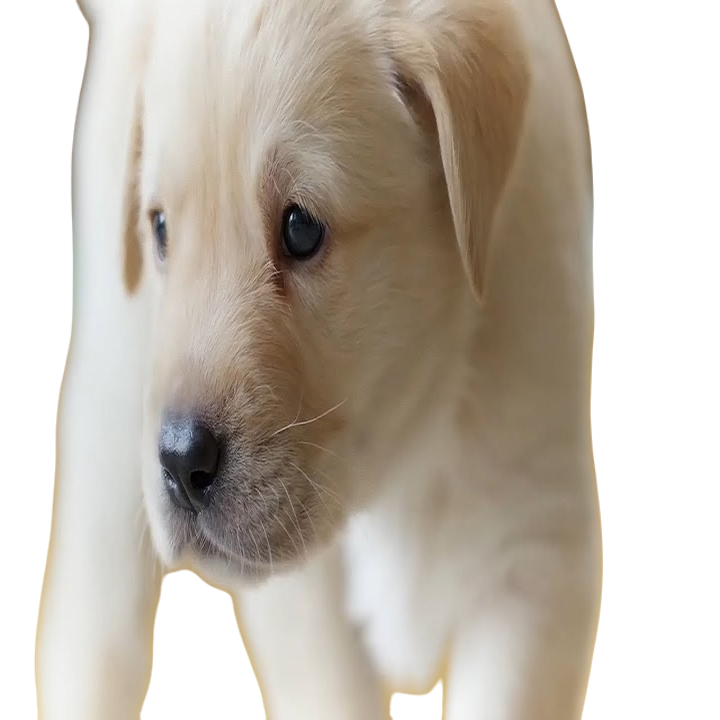Dog: (27, 0, 612, 714)
